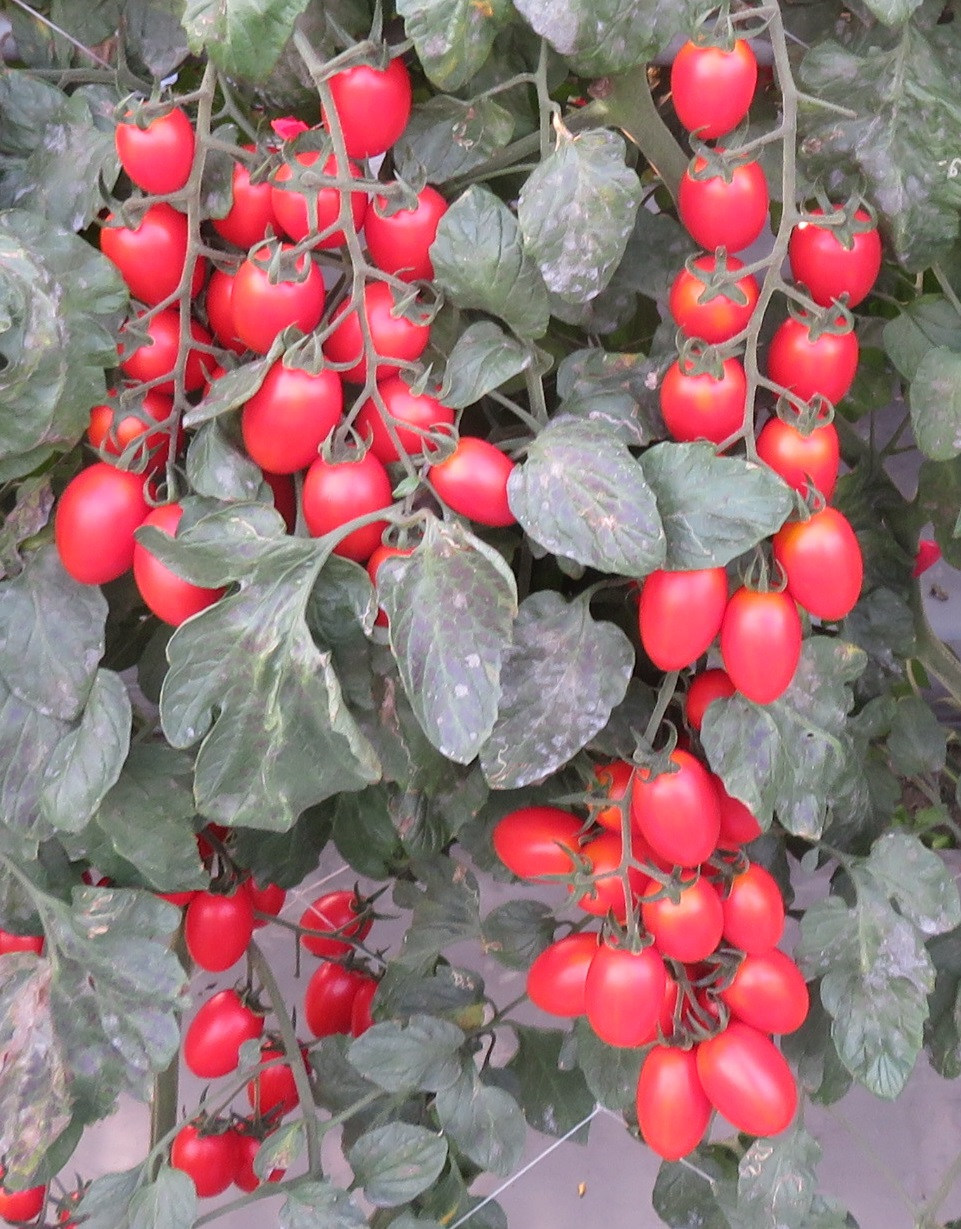red: (693, 1028, 812, 1139), (53, 460, 153, 584), (628, 751, 729, 873), (772, 503, 869, 625), (129, 502, 224, 625), (243, 351, 337, 471), (99, 198, 201, 308), (328, 276, 442, 371), (779, 206, 886, 305), (229, 239, 328, 346), (676, 144, 770, 256), (628, 1037, 708, 1168), (765, 309, 870, 407), (718, 587, 806, 702), (638, 568, 729, 676), (663, 36, 758, 139), (299, 447, 388, 554), (115, 311, 222, 397), (268, 153, 364, 247), (638, 864, 727, 965), (667, 256, 769, 344), (588, 940, 670, 1049), (658, 357, 753, 451), (109, 94, 198, 194), (179, 985, 270, 1082), (358, 373, 458, 461), (721, 945, 815, 1035), (329, 55, 410, 155), (210, 144, 286, 247), (490, 803, 589, 882), (364, 180, 438, 283), (758, 413, 847, 496), (433, 442, 521, 523), (568, 832, 648, 917), (723, 860, 799, 947), (523, 935, 596, 1025), (180, 883, 250, 976), (294, 890, 377, 956), (91, 397, 179, 459), (168, 1116, 233, 1198), (302, 957, 365, 1040), (246, 1037, 308, 1117), (228, 1118, 289, 1198), (684, 666, 736, 728)
